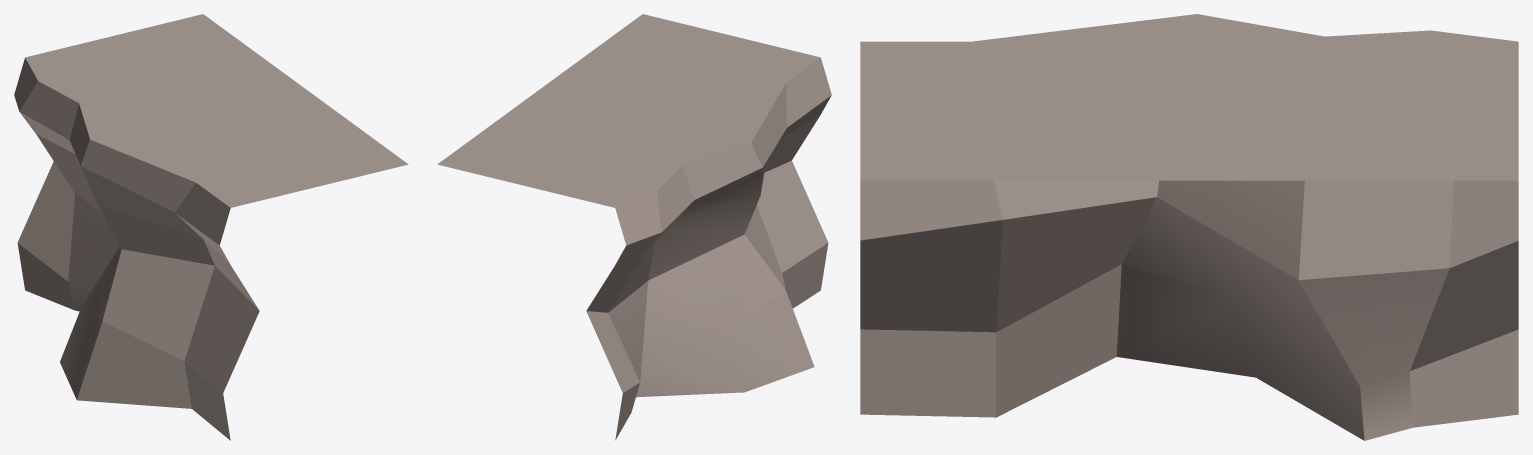
Rendered from ArenaWall_Straight_2m_B.fbx.
3 views of the same model, side by side, from view 1: azimuth 30°, elevation 25°; view 2: azimuth 150°, elevation 25°; view 3: azimuth 270°, elevation 25° (orthographic). The views are drawn at different scales.
Visible parts, largest first — view 1: ArenaWall_Straight_2m_B; view 2: ArenaWall_Straight_2m_B; view 3: ArenaWall_Straight_2m_B.
Part boxes in pixels (box(x1,y1,x2,y2)): ArenaWall_Straight_2m_B: box(14, 14, 408, 440); ArenaWall_Straight_2m_B: box(437, 14, 831, 440); ArenaWall_Straight_2m_B: box(860, 14, 1518, 440).
Size of the model in its own units: 2.83 by 2.5 by 4.
